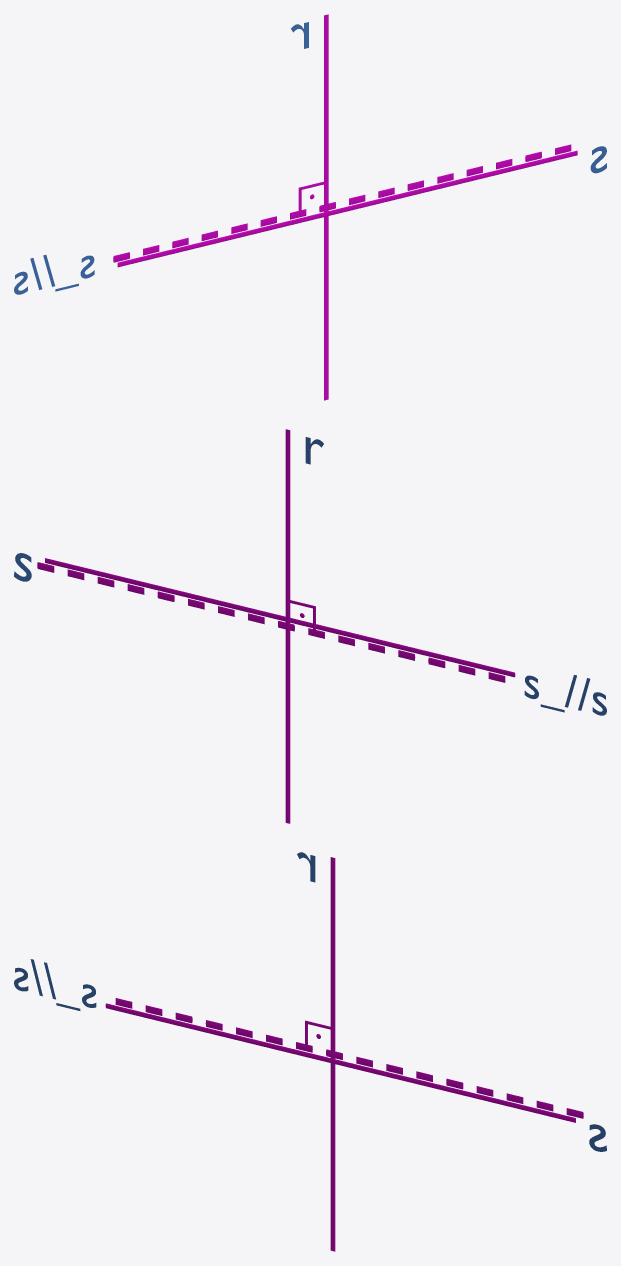
The model's file is ob1.4_retas_ortogonais.glb.
3 renders of one model, top to bottom at view 1: azimuth 30°, elevation 25°; view 2: azimuth 150°, elevation 25°; view 3: azimuth 330°, elevation 25°, orthographic. The views are drawn at different scales.
Parts seen in each view (by area): view 1: A16_Cylinder, letra_s0_Text; view 2: A16_Cylinder, letra_s0_Text; view 3: A16_Cylinder, letra_s0_Text.
Part boxes in pixels (<box>): A16_Cylinder: <box>113,14,577,400</box>; letra_s0_Text: <box>14,255,94,294</box>; A16_Cylinder: <box>37,429,515,823</box>; letra_s0_Text: <box>524,675,606,715</box>; A16_Cylinder: <box>105,857,583,1251</box>; letra_s0_Text: <box>14,959,96,1010</box>.
Bounding box in the file's own units: 11.61 × 7.28 × 0.2579.
